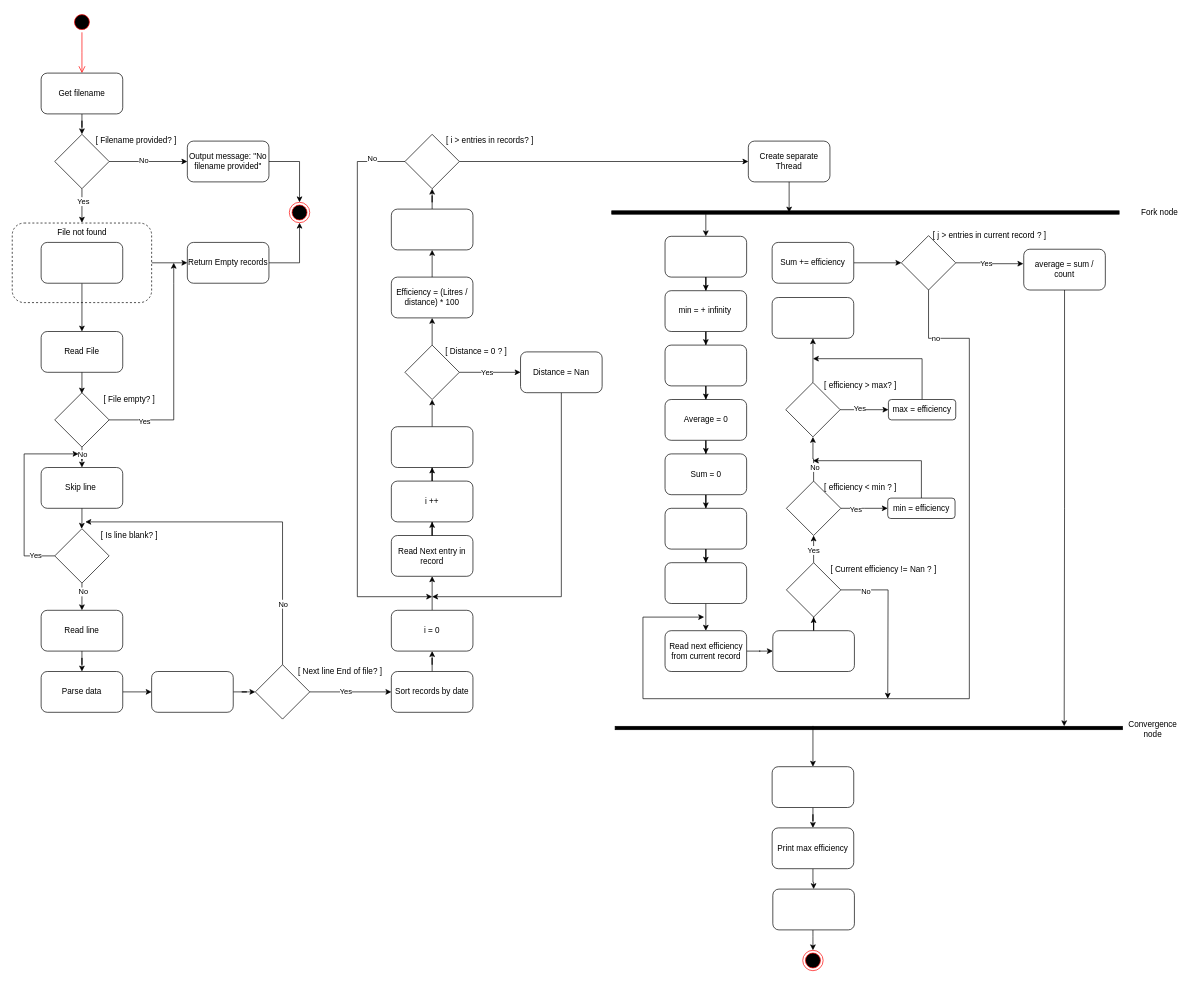
The diagram is 1191 pixels wide and 983 high, and some of its shapes have lost their labels. The shapes that lost their labels are listed below. From the top down, each one's box as (x1, y1, x2, y2) in pixels, then its label:
(391, 208, 473, 250): Store efficiency in current record
(40, 242, 123, 283): Open file
(664, 236, 747, 277): start thread
(771, 297, 854, 338): j ++
(664, 344, 747, 386): max = - infinity
(391, 426, 473, 468): Distance = current - previous distance
(664, 508, 747, 549): Count = 0
(664, 562, 747, 604): j = 0
(772, 630, 854, 672): Count ++
(151, 671, 233, 712): Store data in record
(771, 766, 854, 808): Print min efficiency
(772, 888, 854, 930): Print avg efficiency
